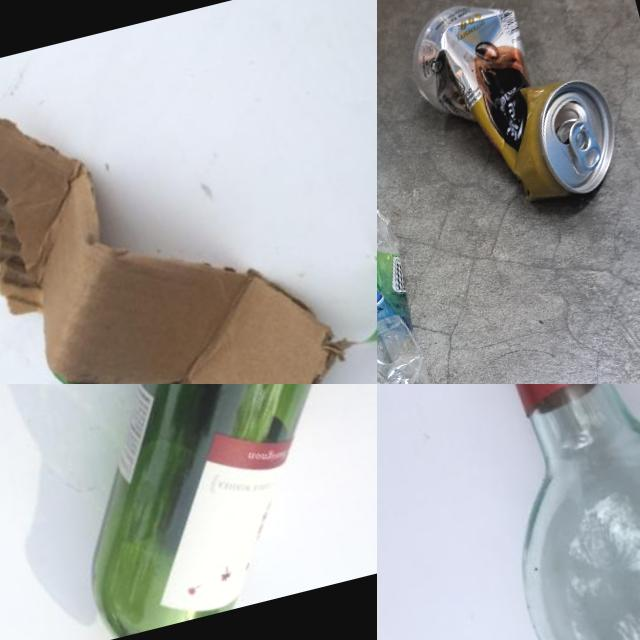aba de lata: (566, 118, 604, 174)
garrafa de vidro: (17, 384, 377, 640), (452, 384, 640, 640)
garrafa plástica: (377, 90, 450, 384)
lata: (398, 0, 629, 227)
papelão: (0, 11, 377, 384)
